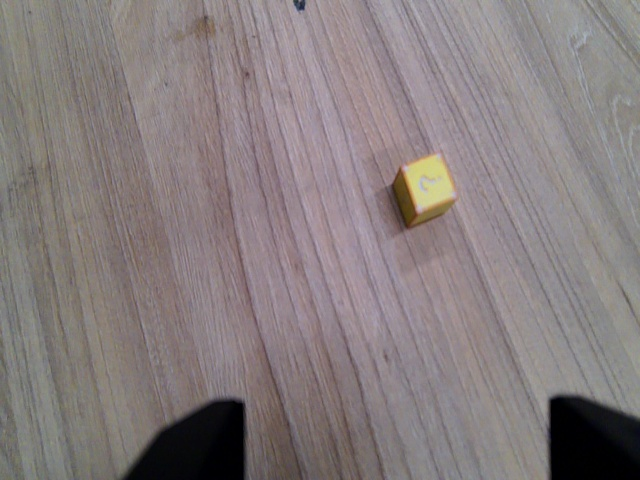lucky: (391, 150, 465, 232)
